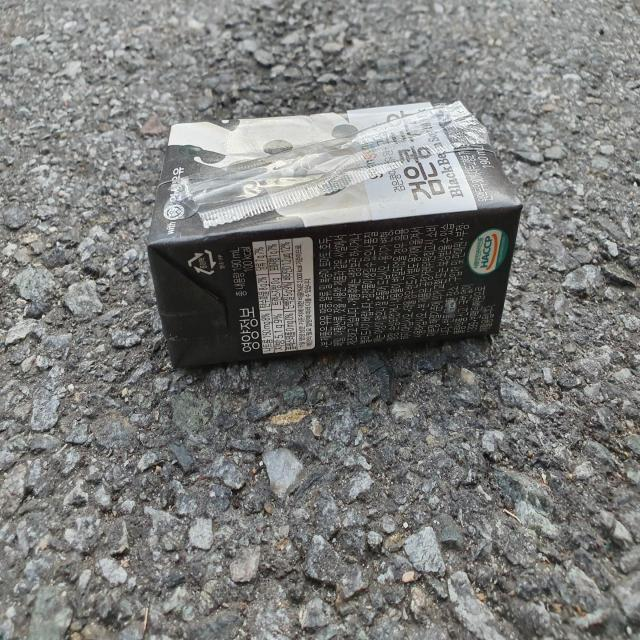paperpack: (147, 100, 523, 366)
